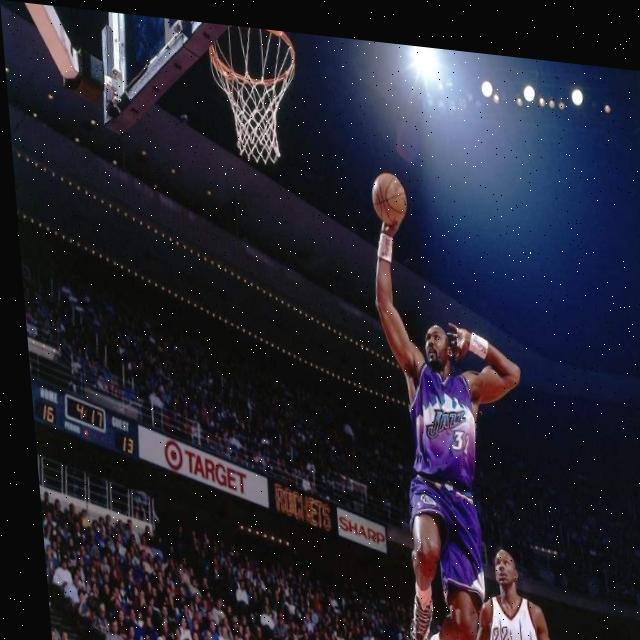basketball: (369, 172, 409, 230)
hoop: (206, 23, 305, 168)
